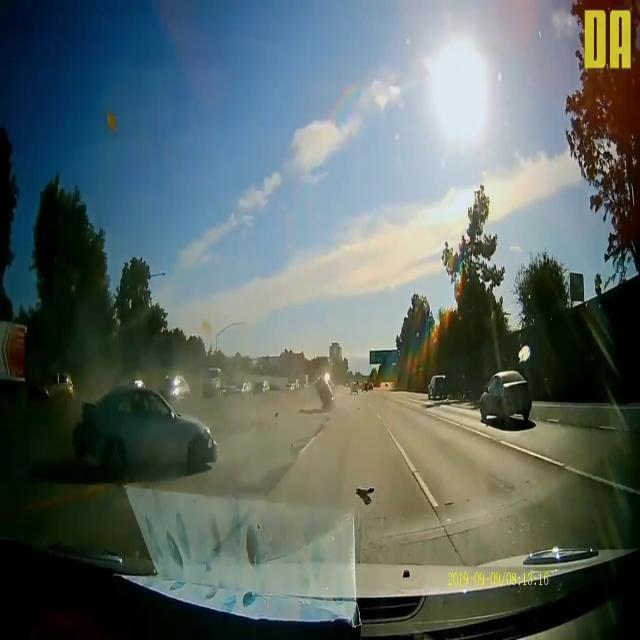single accident: (44, 374, 236, 496)
